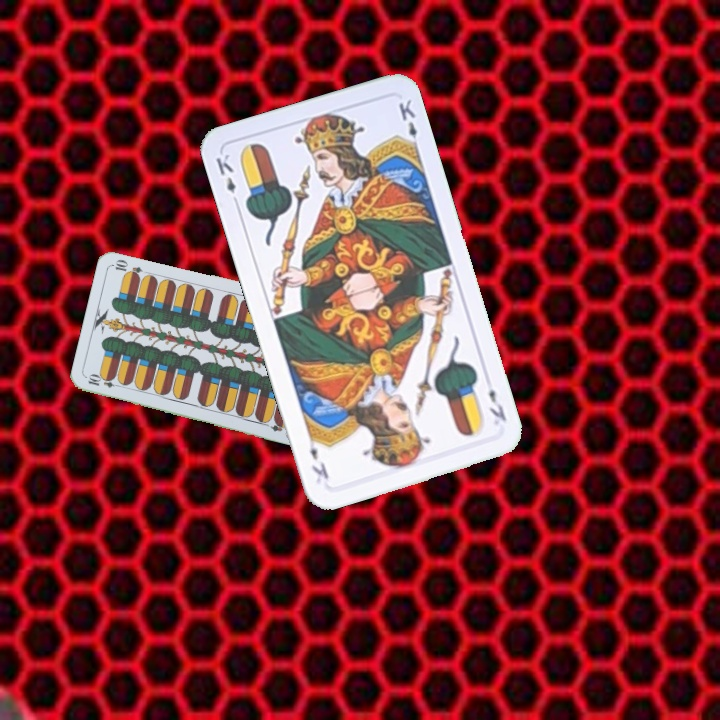E10: (84, 372, 125, 391)
EK: (211, 149, 242, 209), (484, 384, 509, 424)
